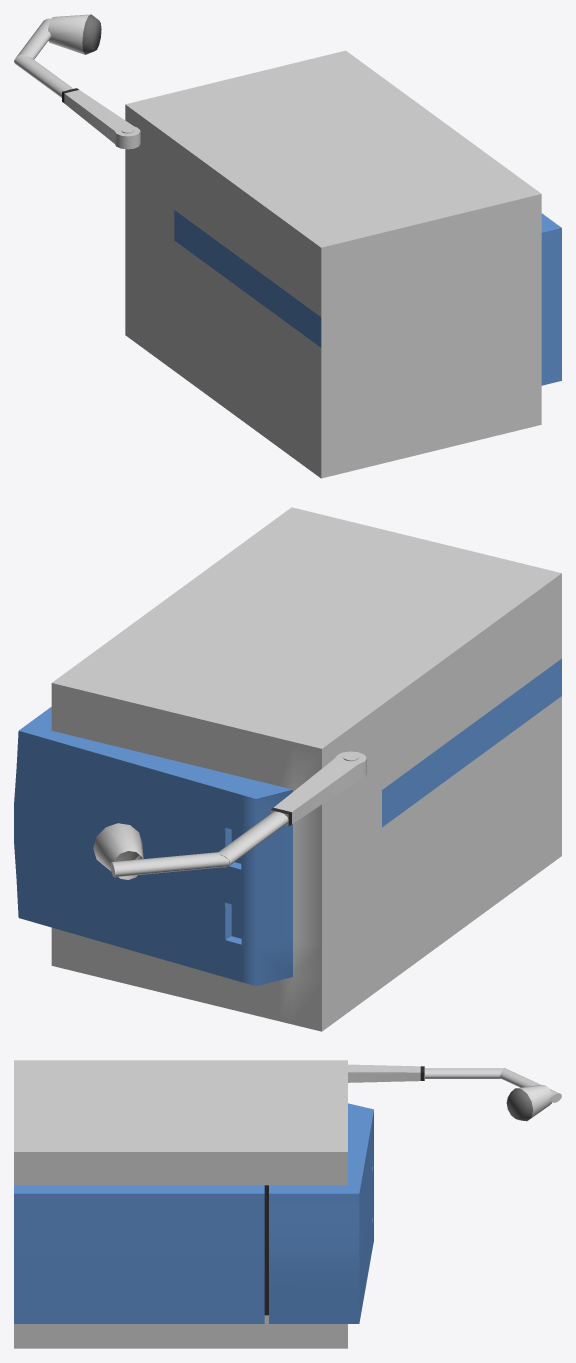
3 views of the same model, one above another, from view 1: azimuth 30°, elevation 25°; view 2: azimuth 150°, elevation 25°; view 3: azimuth 270°, elevation 25° (orthographic). The views are drawn at different scales.
Visible parts, largest first — view 1: Cube.001; view 2: Cube.001; view 3: Cube.001.
Boxes of the visible parts, bbox=[...] form: Cube.001: bbox=[14, 14, 561, 478]; Cube.001: bbox=[14, 507, 561, 1031]; Cube.001: bbox=[14, 1060, 561, 1348].
Bounding box in the file's own units: 45.9 × 38 × 95.94.
